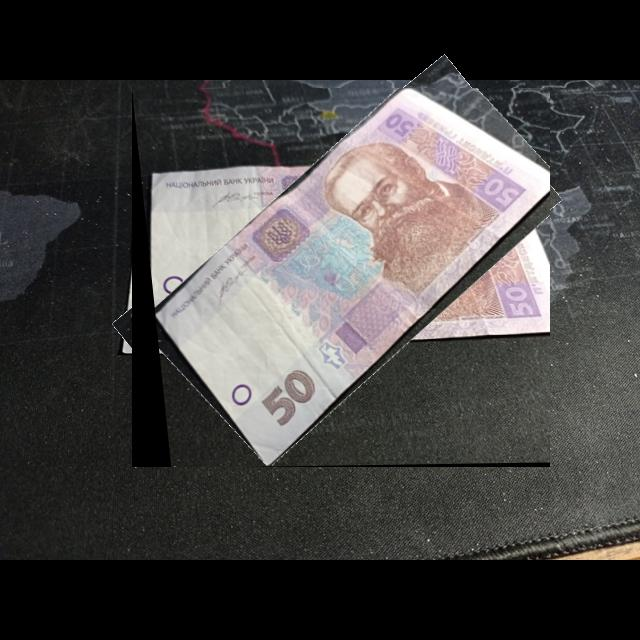50uah: (151, 88, 551, 467)
